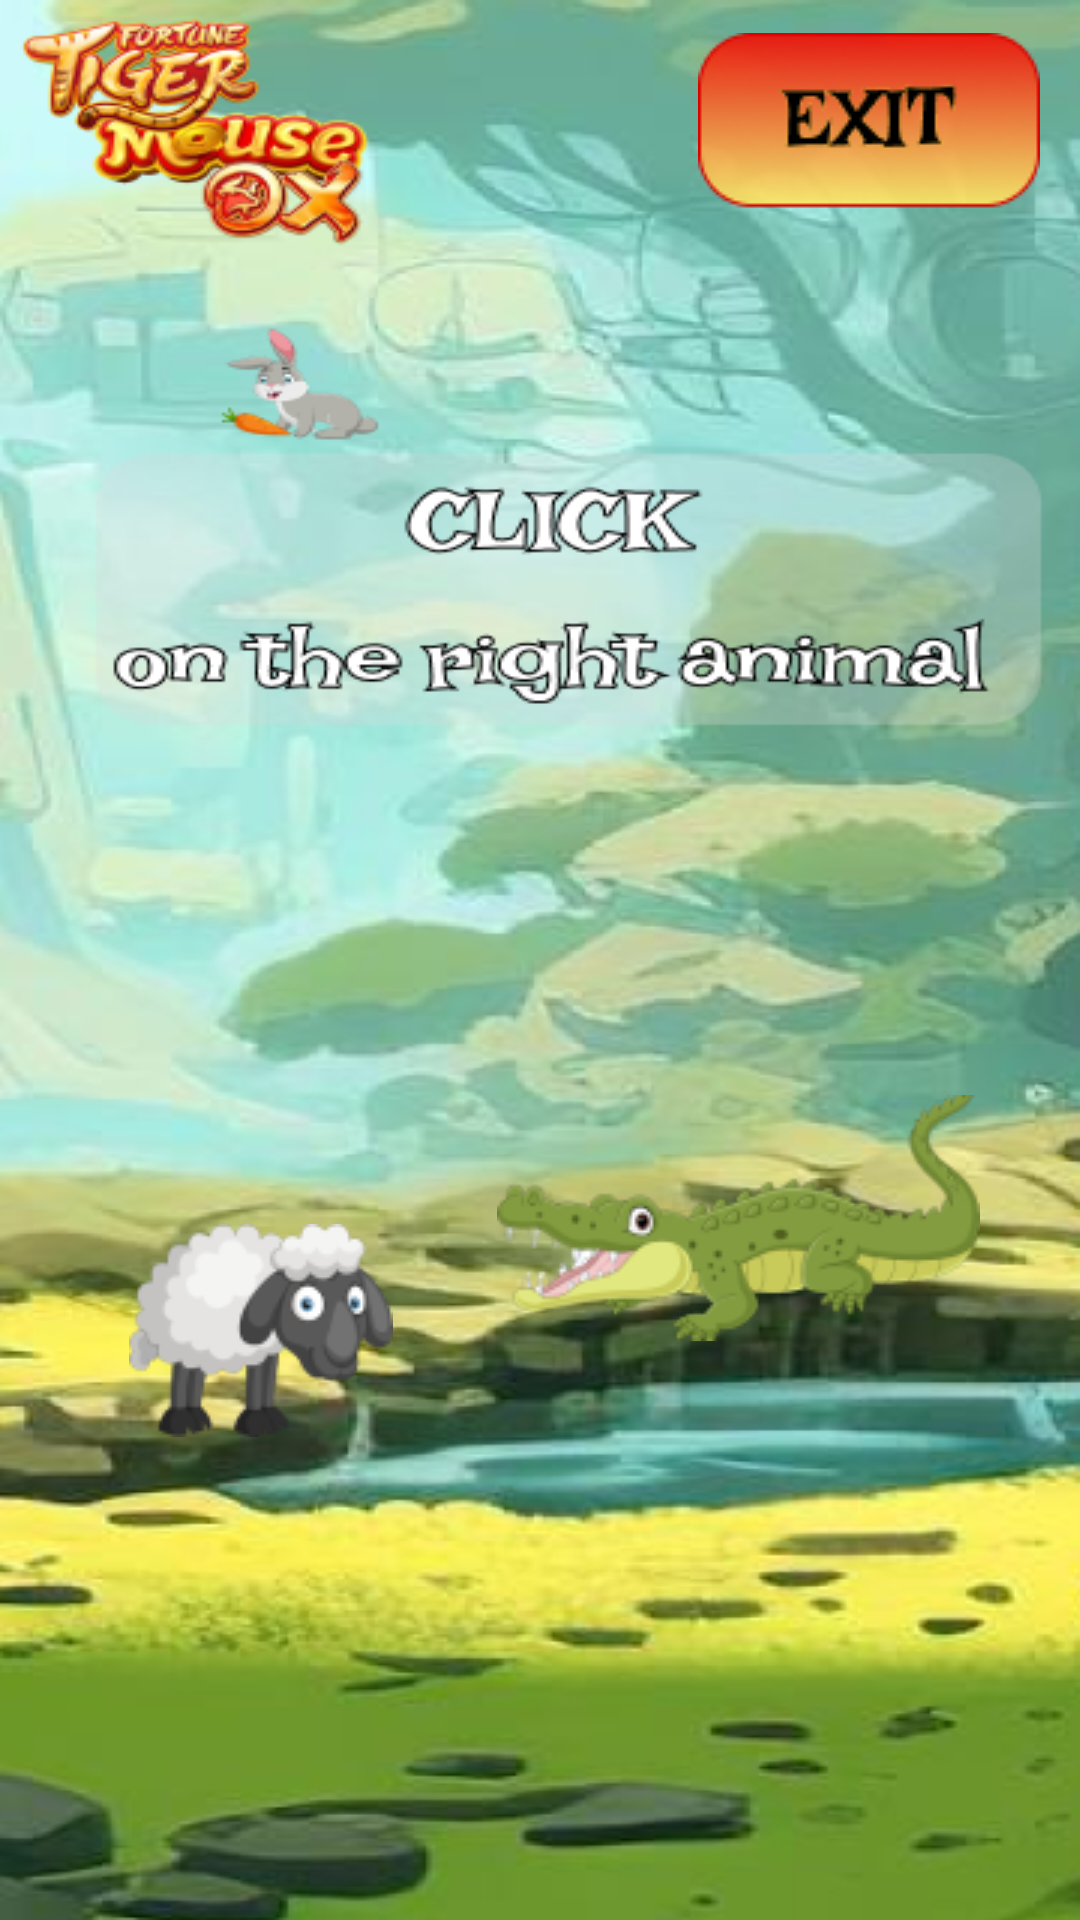

Icons on this 1080 x 1920 Android screen, each with the point to tap as (x=x, y=y):
sheep: (x=261, y=1330)
